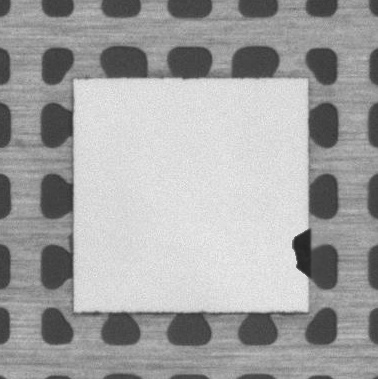DIE_BROKEN: (288, 229, 313, 278)
